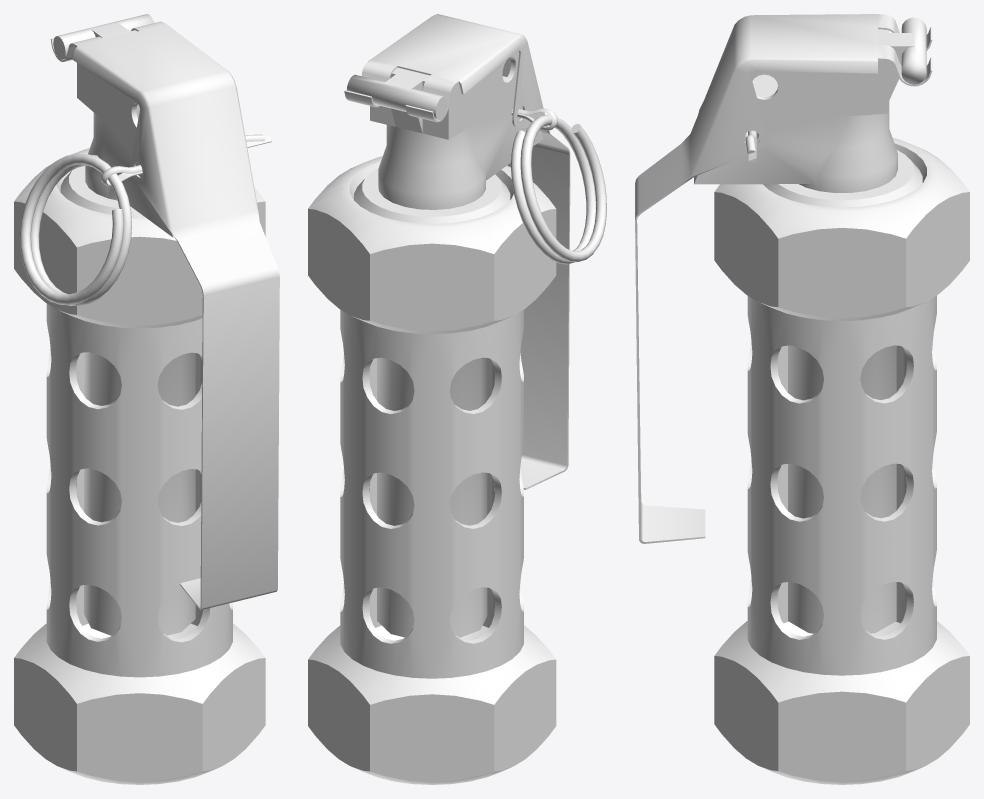
File: flash.glb
3 renders of one model, left to right at view 1: azimuth 30°, elevation 25°; view 2: azimuth 150°, elevation 25°; view 3: azimuth 270°, elevation 25°, orthographic. The views are drawn at different scales.
Visible parts, largest first — view 1: LOD0_Mono; view 2: LOD0_Mono; view 3: LOD0_Mono.
Boxes of the visible parts, <box> form: LOD0_Mono: <box>14,14,279,784</box>; LOD0_Mono: <box>308,14,606,784</box>; LOD0_Mono: <box>635,14,969,784</box>.
Size of the model in its own units: 0.1086 by 0.3239 by 0.1388.
1 material, 1 textured.
